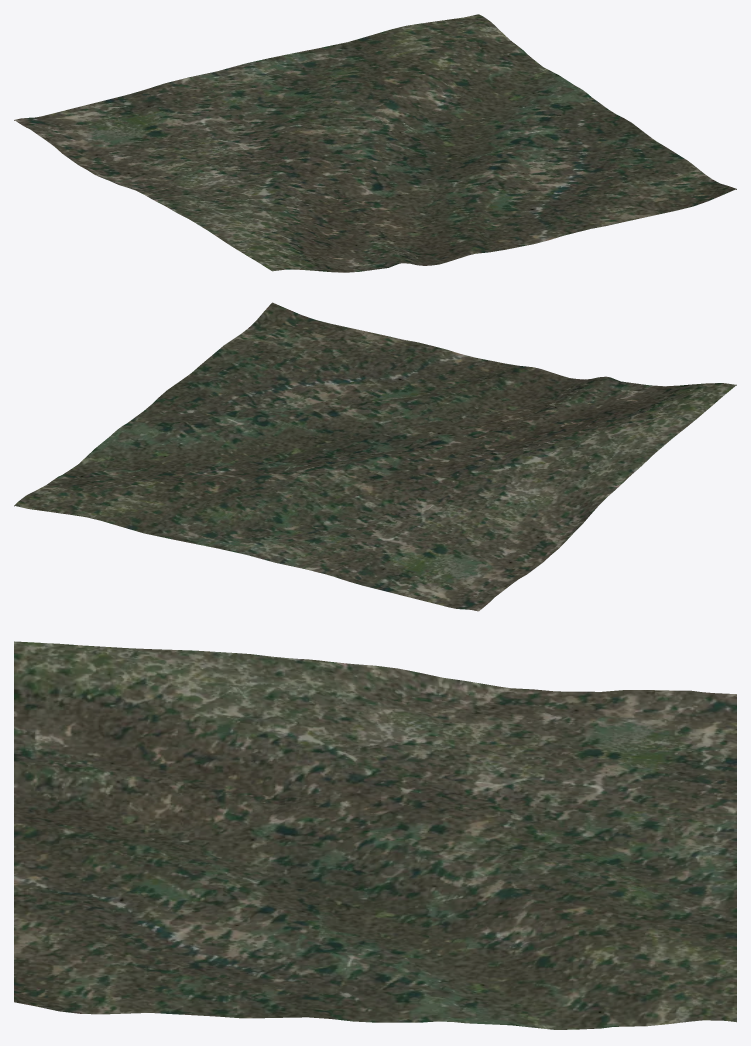
The picture shows the model from 3 angles, top to bottom: view 1: azimuth 30°, elevation 25°; view 2: azimuth 150°, elevation 25°; view 3: azimuth 270°, elevation 25°; orthographic projection. The views are drawn at different scales.
Size of the model in its own units: 500 by 53.37 by 481.
1 material, 1 textured.
